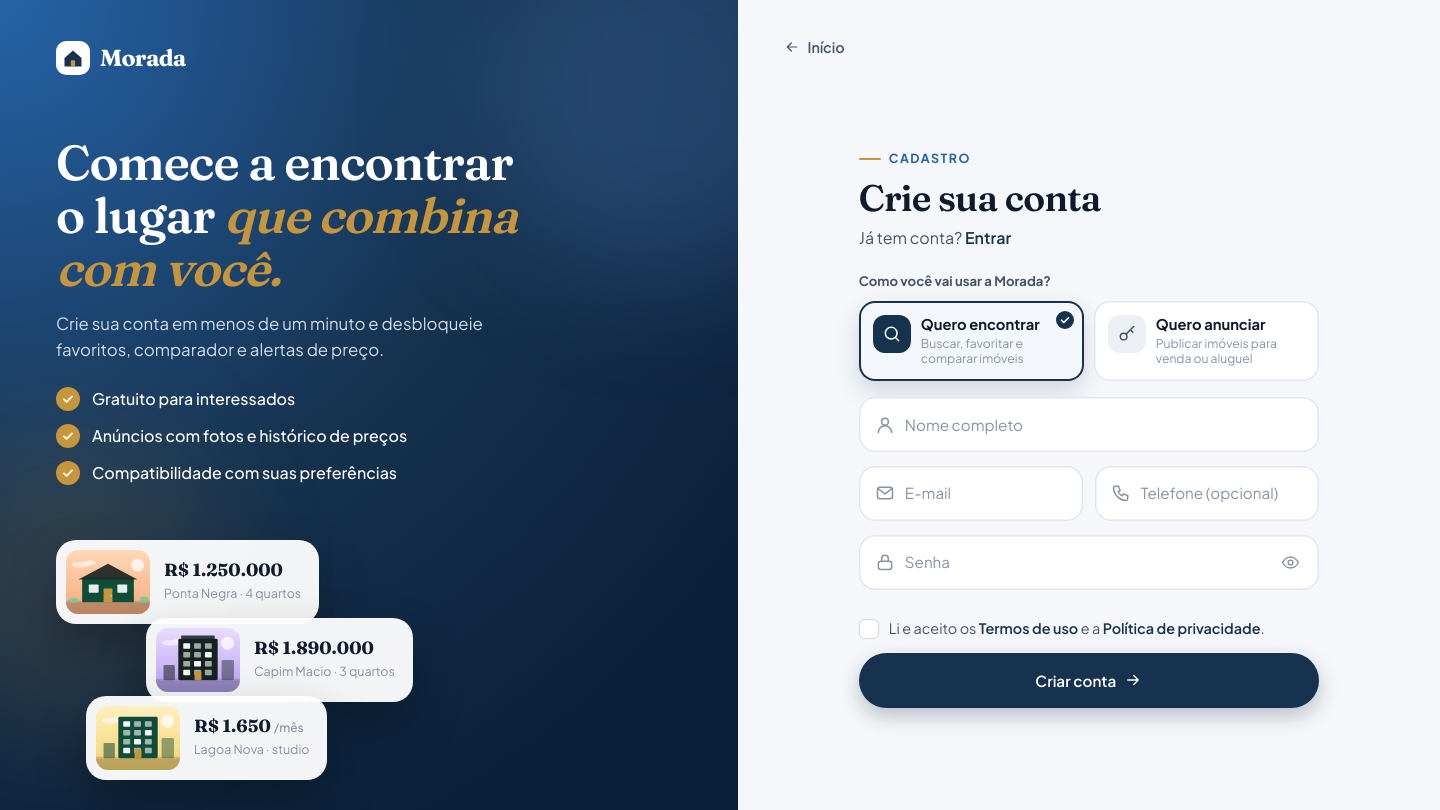
Test case: Tela de Cadastro (Cadastro.jsx) › deve aplicar máscara no telefone e atualizar o medidor de força da senha
This screenshot has width=1440, height=810.
In the field with id "telefone": x=1207, y=494 [1095,466,1319,521], type "84999998888"
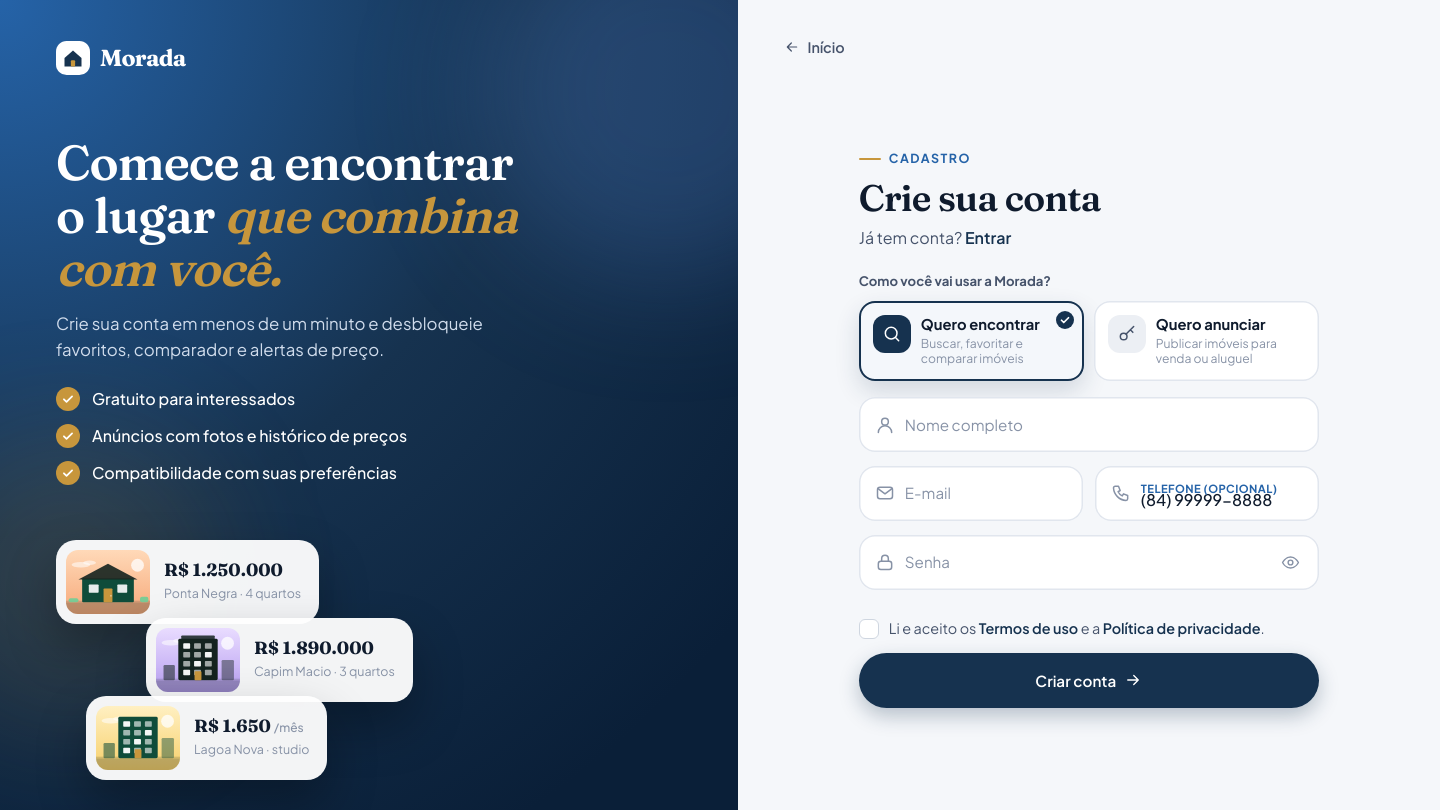
Check: the field with id "telefone" holds "(84) 99999-8888", box [1095,466,1319,521]
In the password field with id "senha": x=1089, y=562 [859,535,1319,590], type "abc"
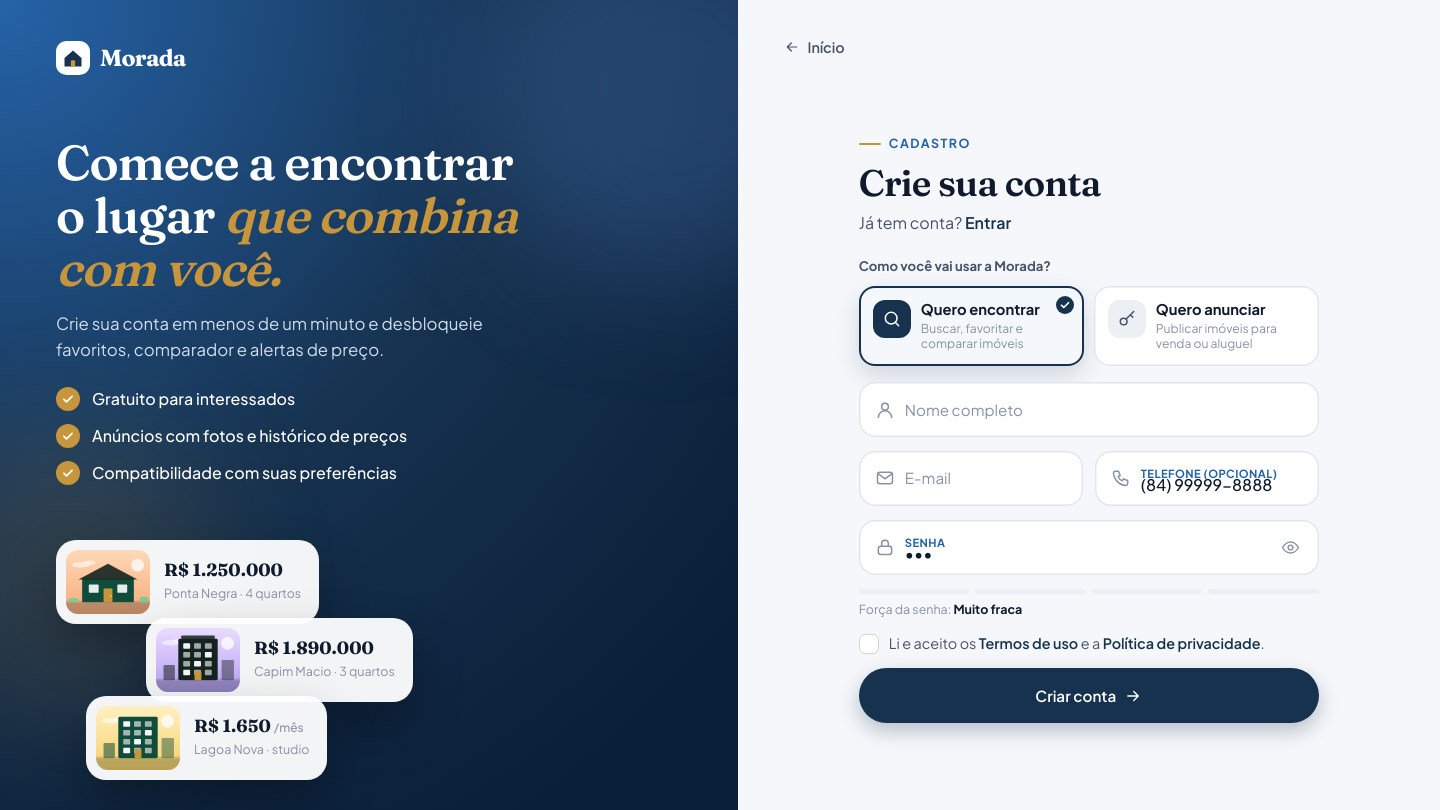
Check: the text "Muito fraca" is shown, box [954,600,1022,616]
In the password field with id "senha": x=1089, y=547 [859,520,1319,574], type "SenhaForte@2026"
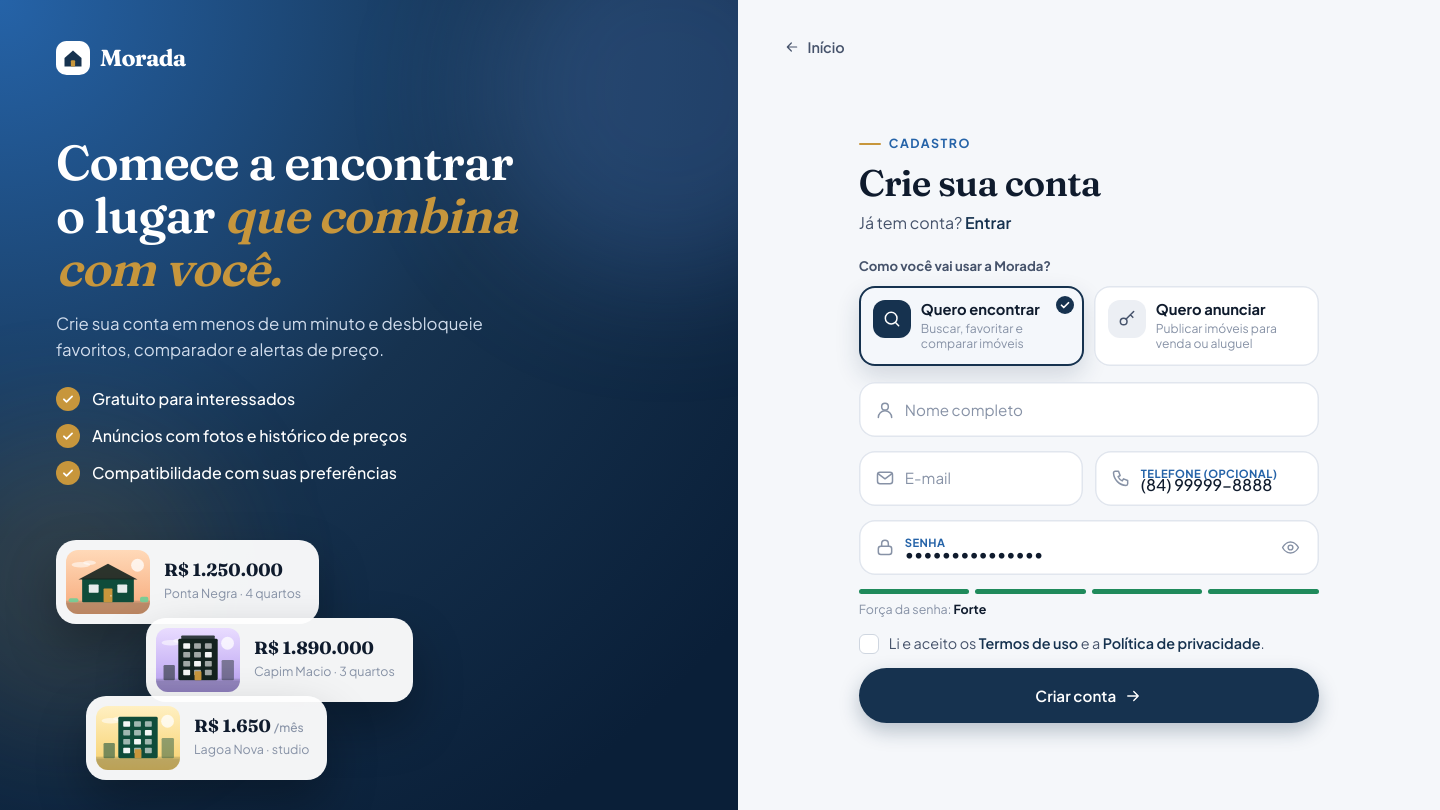
Check: the text "Forte" is shown, box [954,600,986,616]
